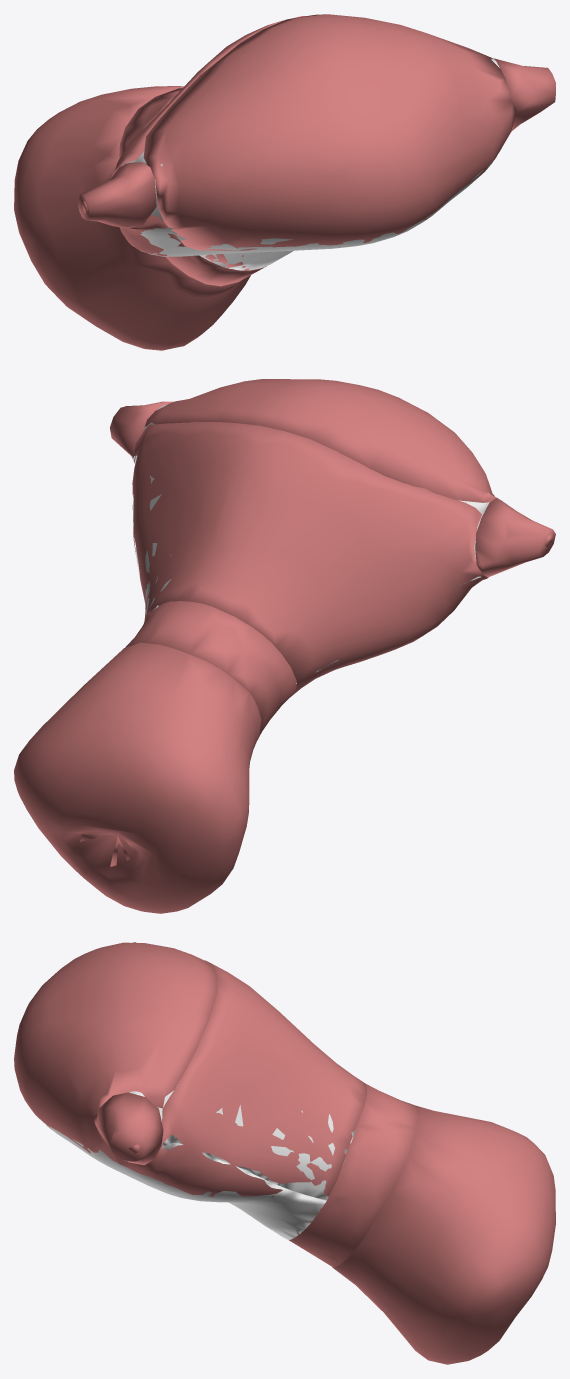
File: vh_f_uterus-20.fbx
3 views of the same model, one above another, from view 1: azimuth 30°, elevation 25°; view 2: azimuth 150°, elevation 25°; view 3: azimuth 270°, elevation 25° (orthographic). The views are drawn at different scales.
Parts seen in each view (by area): view 1: VH_F_fundus_of_uterus, VH_F_cervix, VH_F_cornua, VH_F_posterior_wall_of_uterus, VH_F_lower_uterine_segment, VH_F_body_of_uterus; view 2: VH_F_body_of_uterus, VH_F_cervix, VH_F_fundus_of_uterus, VH_F_lower_uterine_segment, VH_F_cornua, VH_F_anterior_wall_of_uterus; view 3: VH_F_cervix, VH_F_body_of_uterus, VH_F_fundus_of_uterus, VH_F_lower_uterine_segment, VH_F_posterior_wall_of_uterus, VH_F_cornua, VH_F_anterior_wall_of_uterus.
Part boxes in pixels (left/top/right/bottom): VH_F_fundus_of_uterus: left=143, top=14, right=516, bottom=250; VH_F_cervix: left=14, top=86, right=250, bottom=350; VH_F_cornua: left=78, top=58, right=555, bottom=228; VH_F_posterior_wall_of_uterus: left=140, top=161, right=493, bottom=270; VH_F_lower_uterine_segment: left=119, top=88, right=266, bottom=286; VH_F_body_of_uterus: left=111, top=16, right=513, bottom=270; VH_F_body_of_uterus: left=132, top=421, right=488, bottom=697; VH_F_cervix: left=14, top=642, right=261, bottom=913; VH_F_fundus_of_uterus: left=145, top=379, right=502, bottom=502; VH_F_lower_uterine_segment: left=125, top=601, right=296, bottom=740; VH_F_cornua: left=110, top=401, right=555, bottom=577; VH_F_anterior_wall_of_uterus: left=133, top=404, right=489, bottom=683; VH_F_cervix: left=332, top=1105, right=555, bottom=1364; VH_F_body_of_uterus: left=114, top=960, right=366, bottom=1221; VH_F_fundus_of_uterus: left=14, top=942, right=217, bottom=1162; VH_F_lower_uterine_segment: left=289, top=1084, right=419, bottom=1267; VH_F_posterior_wall_of_uterus: left=42, top=1121, right=326, bottom=1240; VH_F_cornua: left=96, top=942, right=163, bottom=1165; VH_F_anterior_wall_of_uterus: left=129, top=1081, right=355, bottom=1200.
Bounding box in the file's own units: 5.25 × 4.7 × 5.87.
